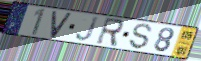1: (31, 7, 47, 37)
8: (153, 27, 175, 53)
J: (74, 16, 100, 43)
R: (94, 16, 125, 48)
S: (128, 23, 154, 51)
V: (49, 10, 74, 40)
